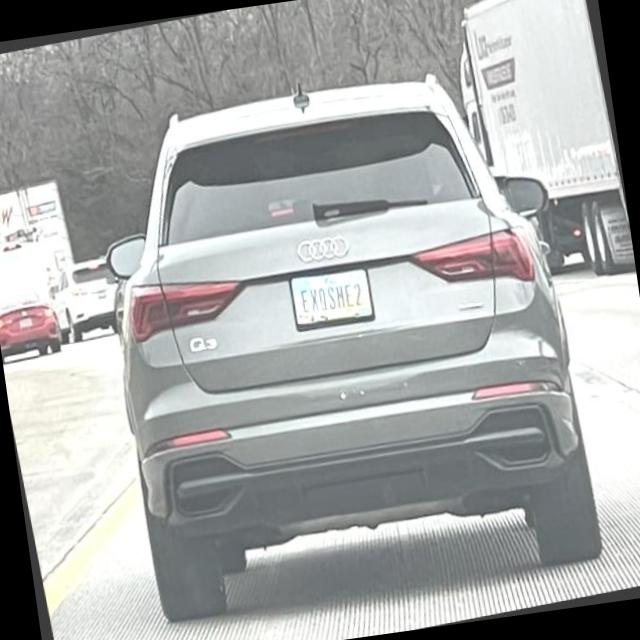LicensePlate: (287, 266, 376, 333)
